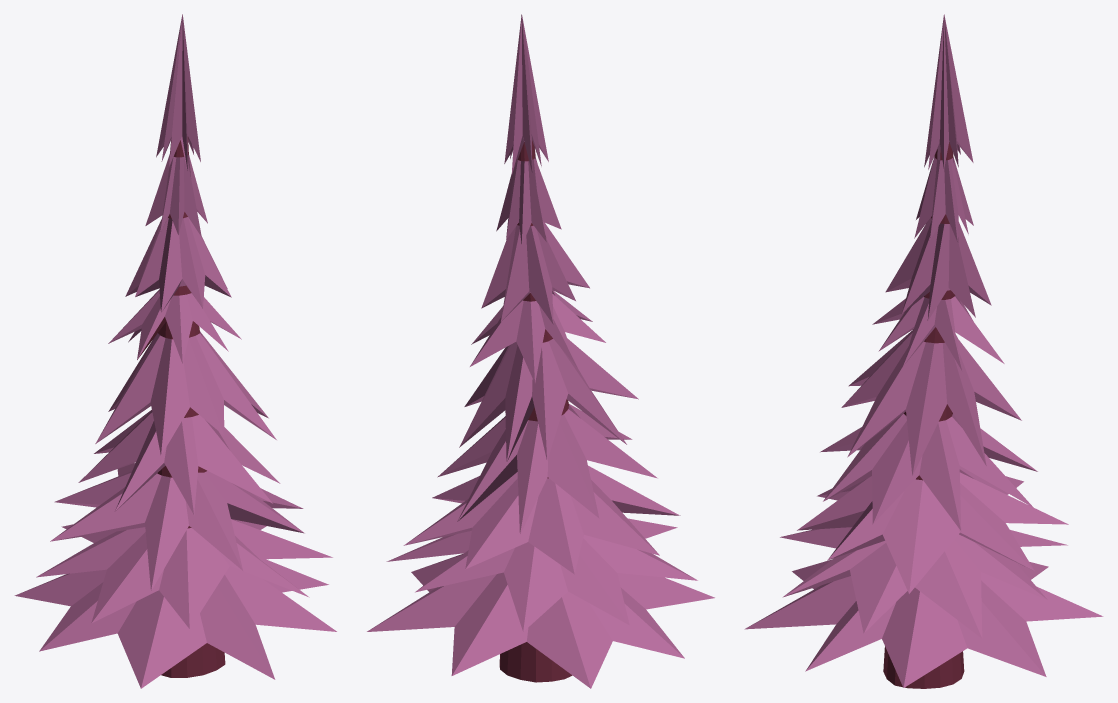
File: PS_ForestTree03_V1.0.fbx
The picture shows the model from 3 angles, left to right: view 1: azimuth 30°, elevation 25°; view 2: azimuth 150°, elevation 25°; view 3: azimuth 270°, elevation 25°; orthographic projection. The views are drawn at different scales.
Visible parts, largest first — view 1: Cube; view 2: Cube; view 3: Cube.
Part boxes in pixels (<box>): Cube: <box>14,14,336,688</box>; Cube: <box>367,14,714,688</box>; Cube: <box>744,14,1103,688</box>.
Size of the model in its own units: 781 by 1710 by 843.
